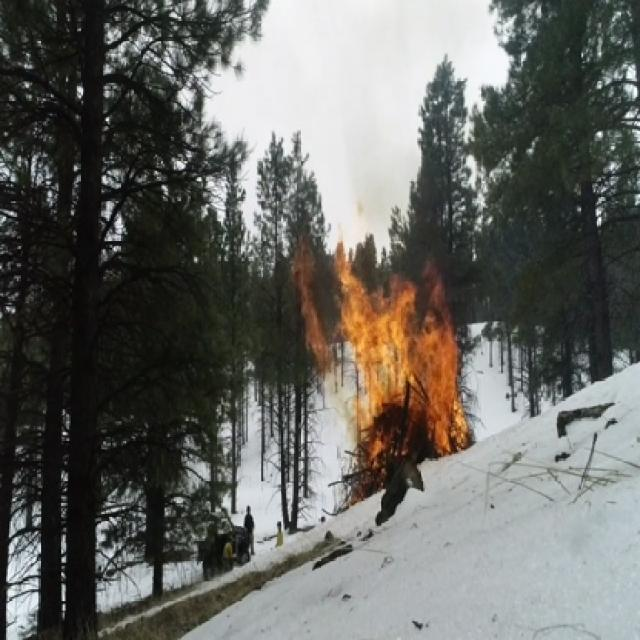Fire: (288, 224, 474, 490)
